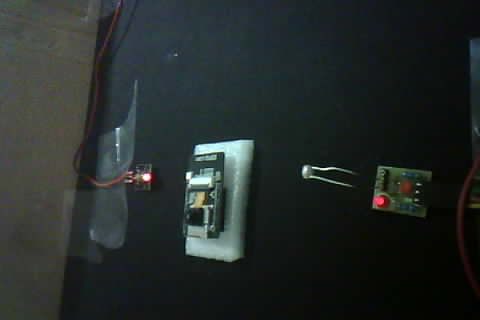esp32: (176, 138, 253, 260)
